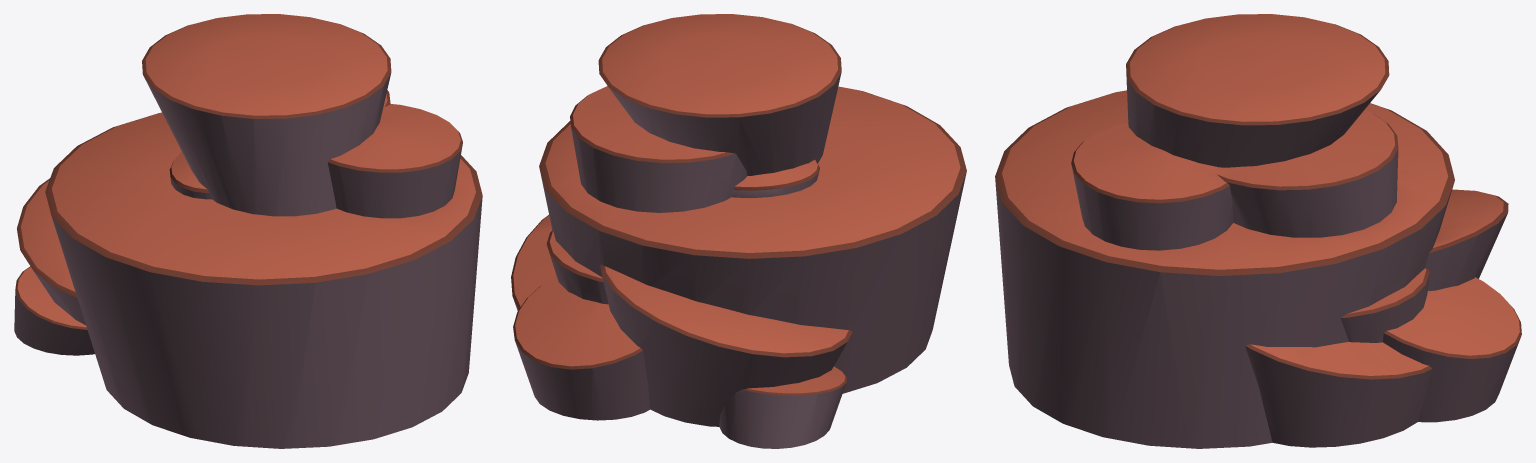
Rendered from Cliff1.fbx.
3 views of the same model, side by side, from view 1: azimuth 30°, elevation 25°; view 2: azimuth 150°, elevation 25°; view 3: azimuth 270°, elevation 25° (orthographic). The views are drawn at different scales.
Visible parts, largest first — view 1: Model; view 2: Model; view 3: Model.
Boxes of the visible parts, x1,y1,x2,y2 form: Model: (14, 14, 482, 448); Model: (511, 14, 966, 448); Model: (995, 14, 1521, 448).
Bounding box in the file's own units: 2377 × 1739 × 2689.
